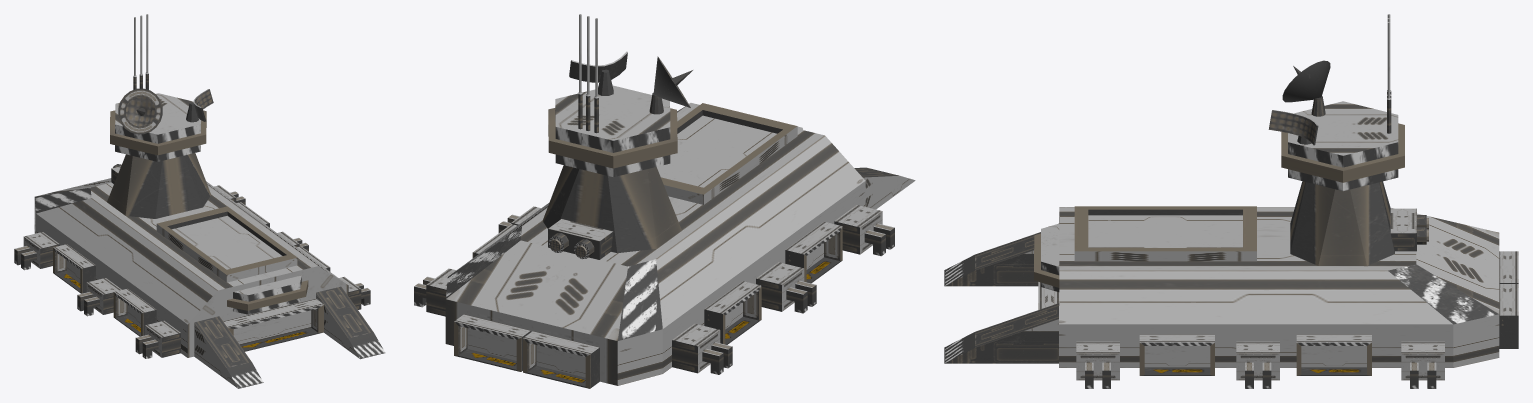
The model's file is Command_center.fbx.
3 renders of one model, left to right at view 1: azimuth 30°, elevation 25°; view 2: azimuth 150°, elevation 25°; view 3: azimuth 270°, elevation 25°, orthographic. The views are drawn at different scales.
Visible parts, largest first — view 1: Command_Center1; view 2: Command_Center1; view 3: Command_Center1.
Part boxes in pixels (x1=…): Command_Center1: x1=14, y1=14, x2=385, y2=388; Command_Center1: x1=414, y1=14, x2=915, y2=388; Command_Center1: x1=944, y1=14, x2=1518, y2=388.
Size of the model in its own units: 1159 by 1135 by 1974.
